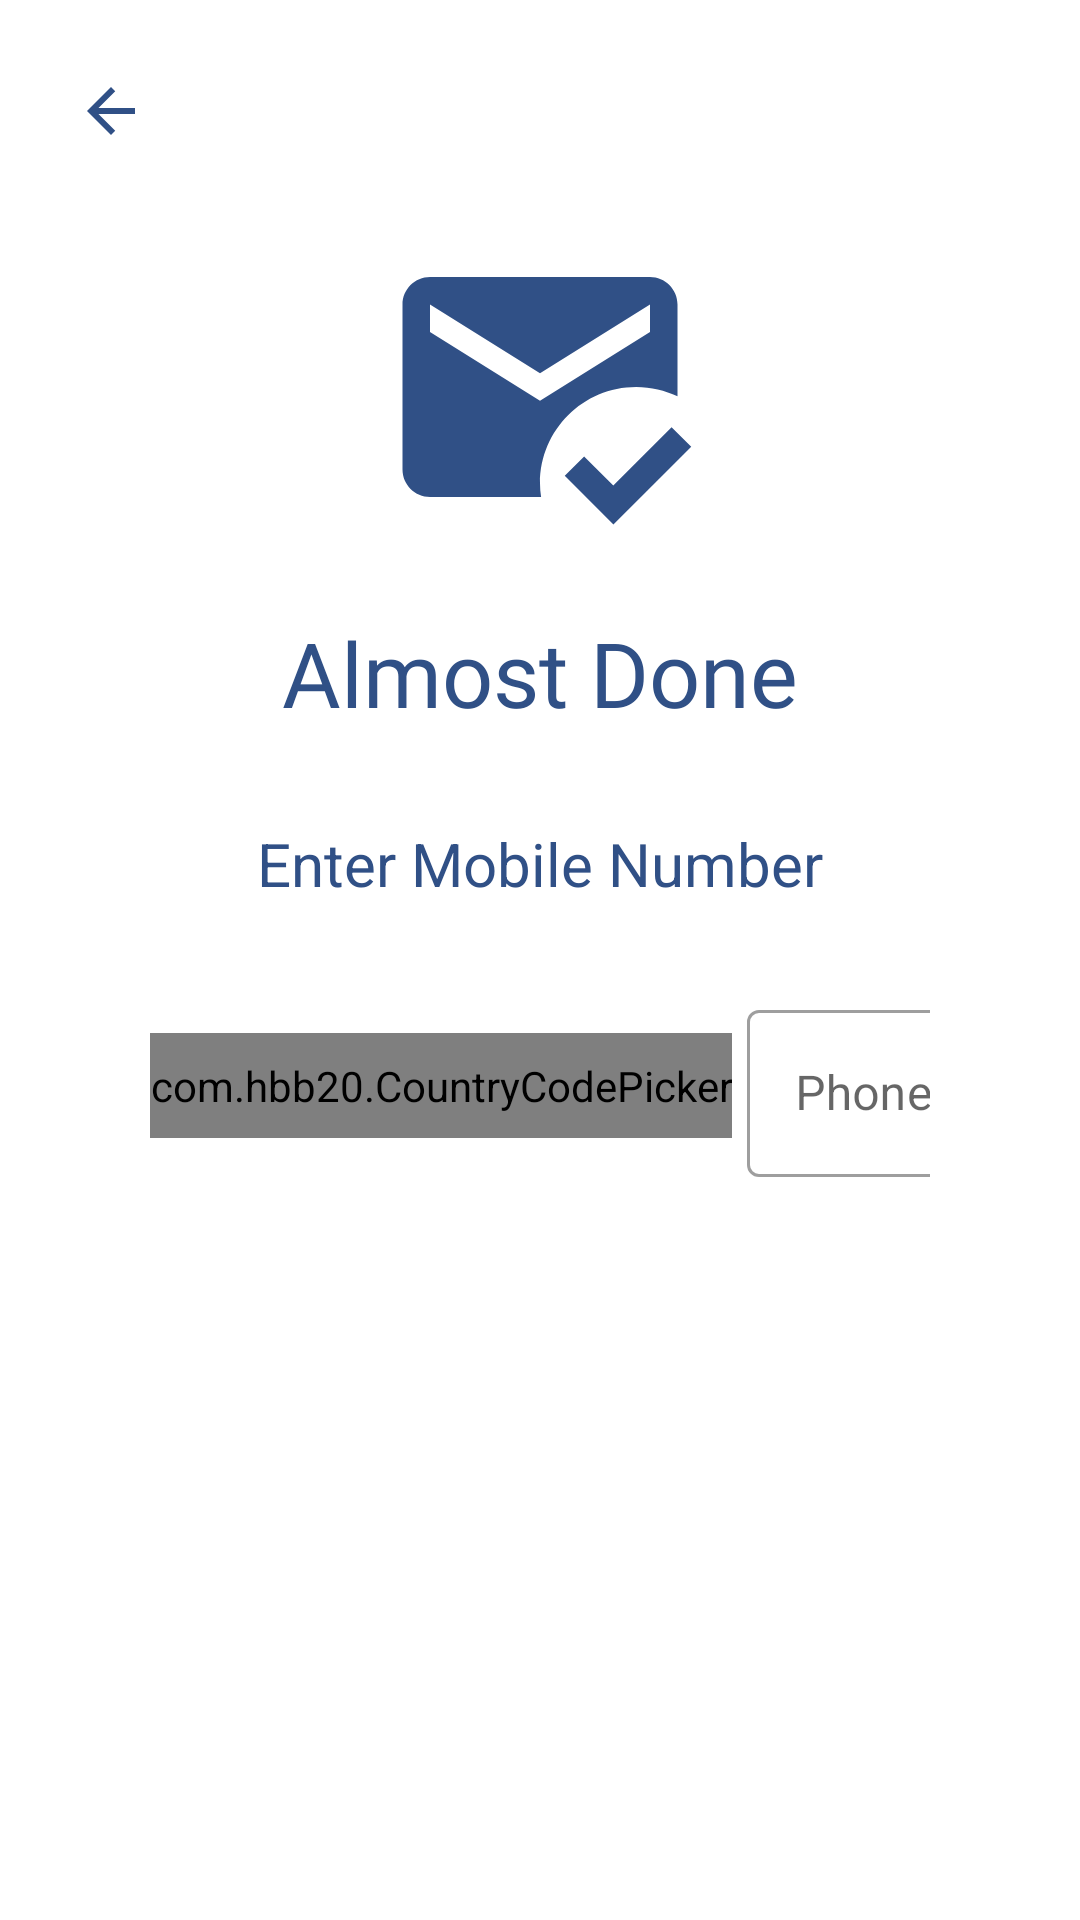

Named icons in this screenshot (1080px×1920px) and their centers, point (x, y):
back: point (111, 111)
sending message: point (546, 401)
